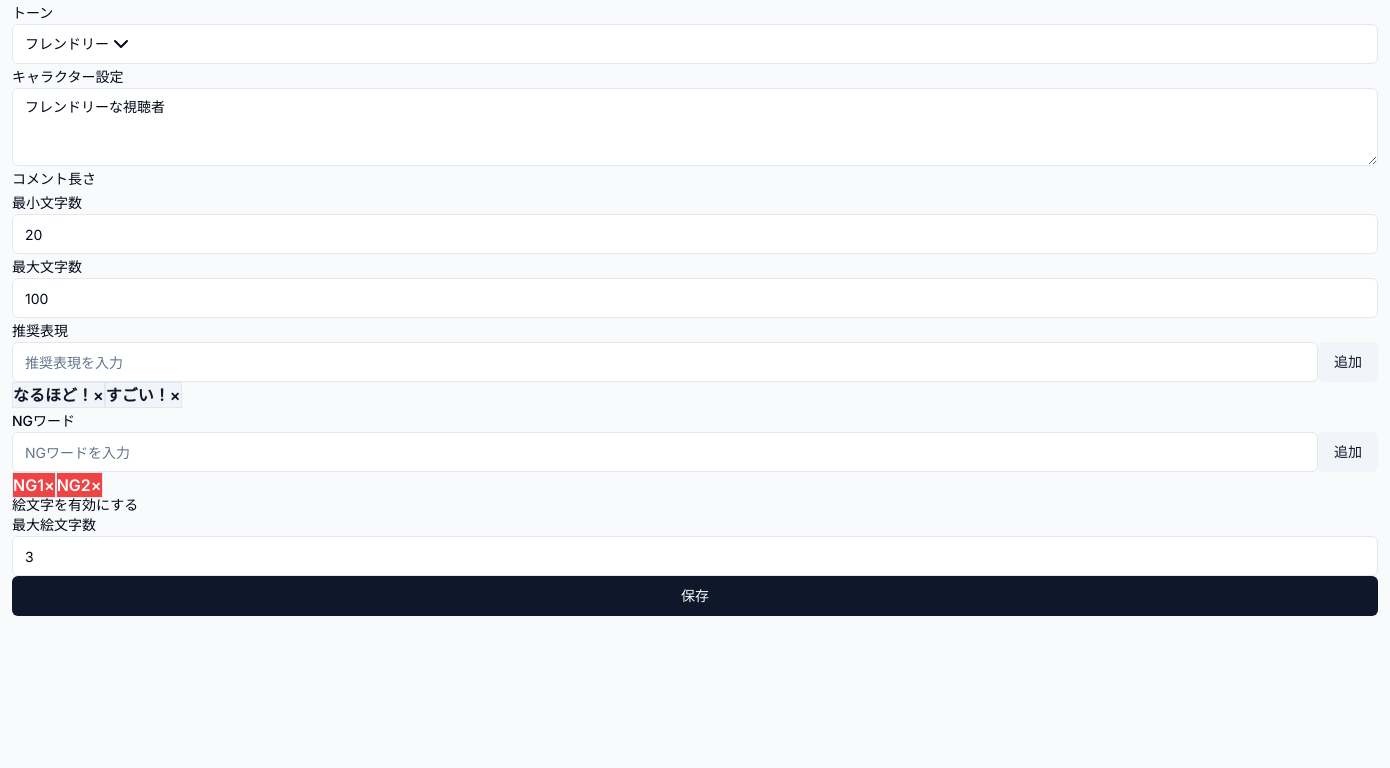
Scenario: Settings Page › CommentSettingsForm › should validate form inputs
// 最小文字数を最大より大きく設定
Replace the text in the number field labelled "最小文字数" with "200": (695, 234) [12, 214, 1378, 254]
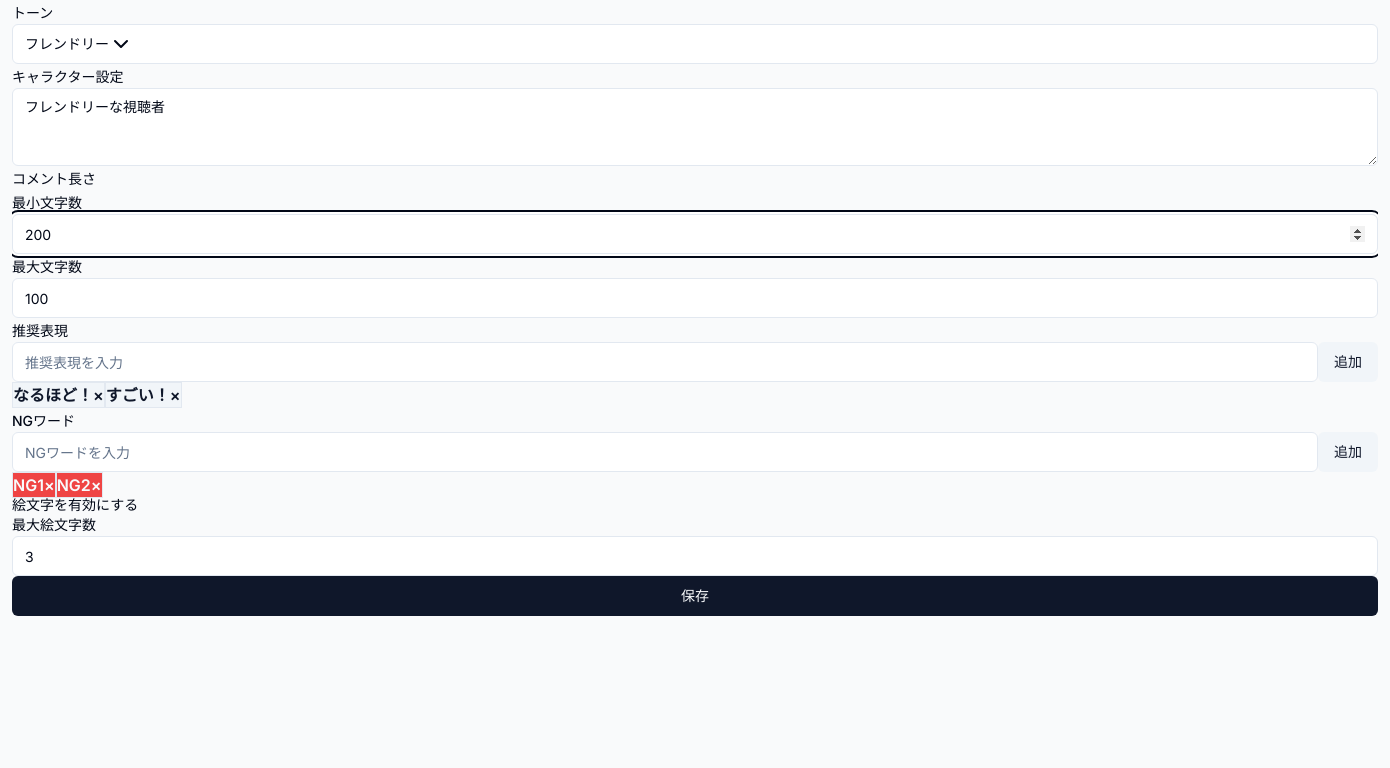
// 保存ボタンをクリック
Click the button "保存": (695, 596) [12, 576, 1378, 616]
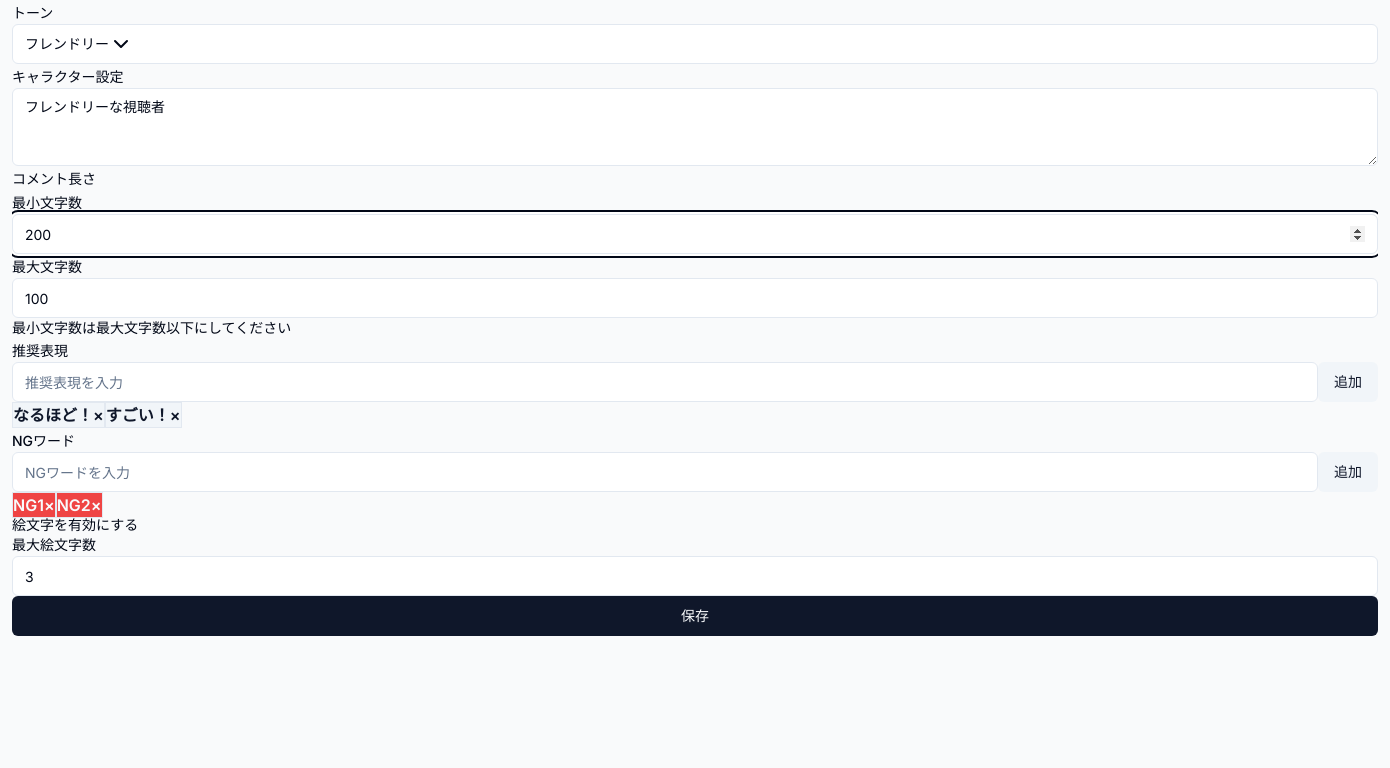
expect the text "最小文字数は最大文字数以下にしてください" is shown: met, box [12, 319, 291, 336]
